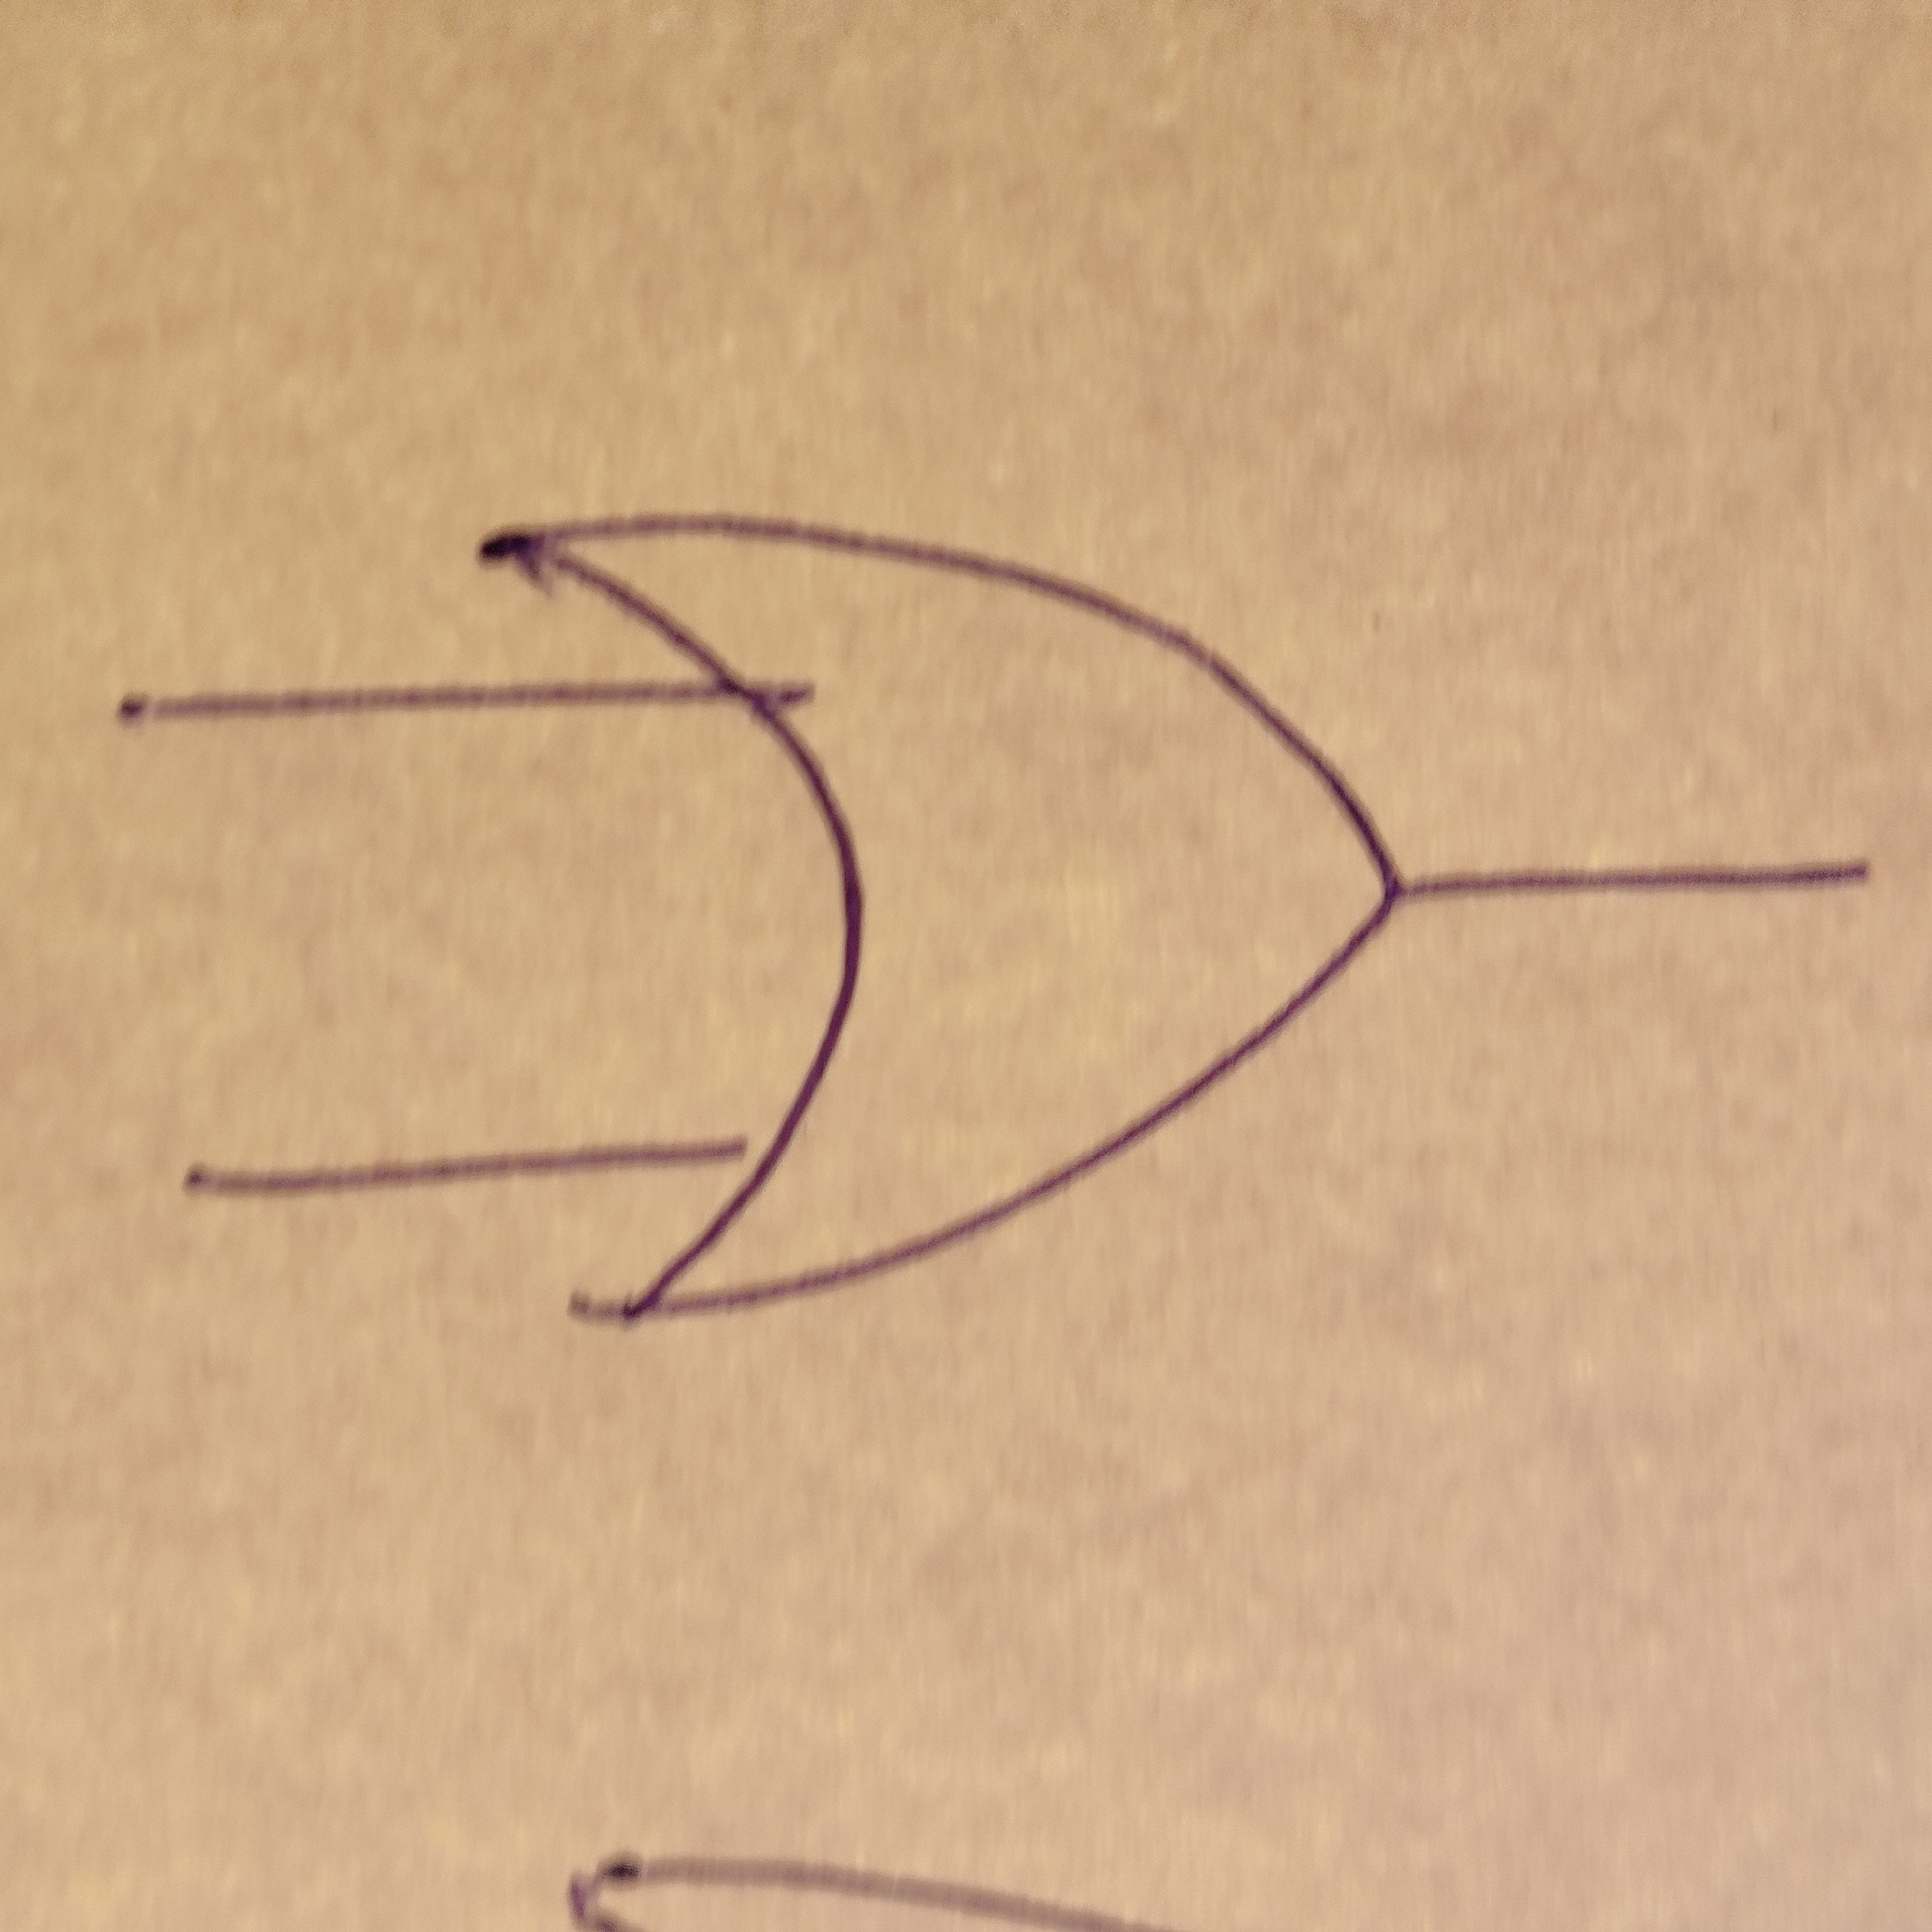or: (490, 517, 1407, 1316)
